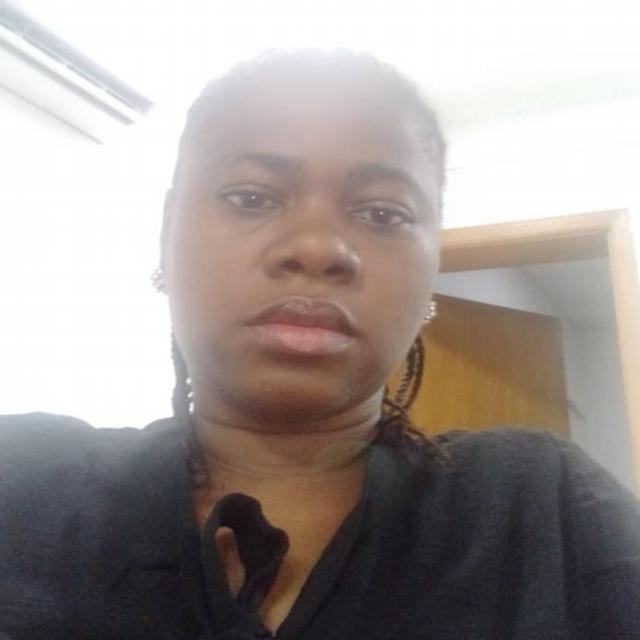sad: (156, 41, 450, 420)
